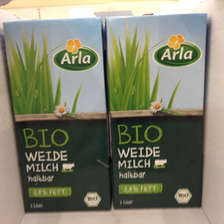milk: (3, 14, 115, 211), (106, 13, 211, 211)
